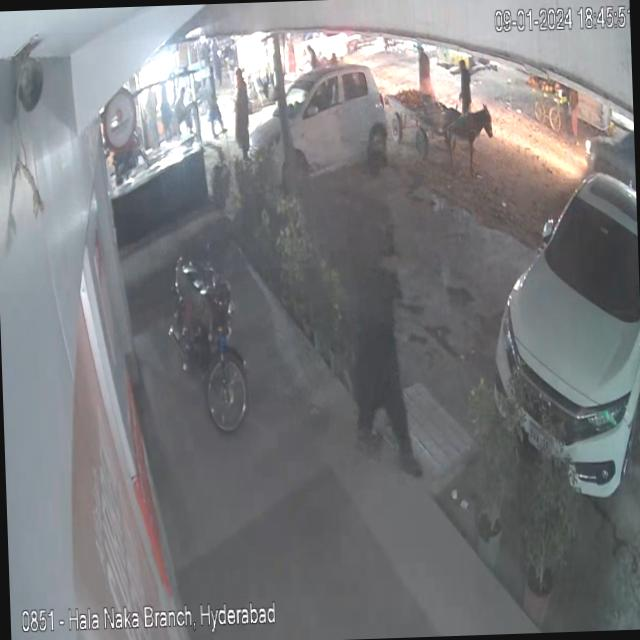Car: (484, 152, 640, 519), (245, 64, 408, 194)
